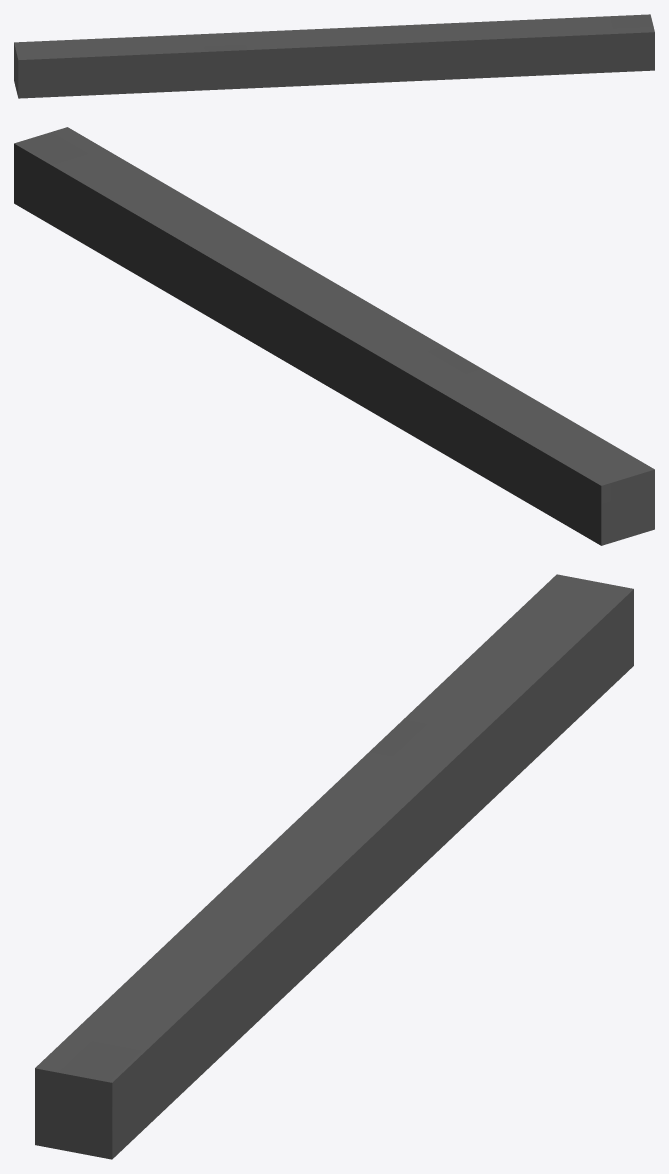
Rendered from base_frame__diagonal_brace.glb.
The picture shows the model from 3 angles, top to bottom: view 1: azimuth 30°, elevation 25°; view 2: azimuth 150°, elevation 25°; view 3: azimuth 270°, elevation 25°; orthographic projection. The views are drawn at different scales.
Parts seen in each view (by area): view 1: world; view 2: world; view 3: world.
Part boxes in pixels (bbox=[...]): world: bbox=[14, 14, 654, 98]; world: bbox=[14, 127, 654, 545]; world: bbox=[35, 574, 633, 1159].
Size of the model in its own units: 0.6392 by 0.045 by 0.3184.
Materials: 1 (1 with a texture image).
